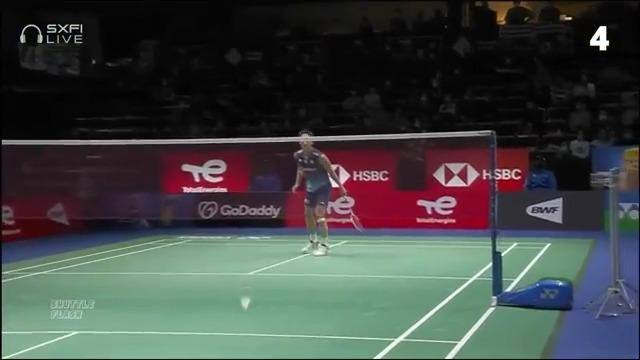Shuttlecock: (234, 294, 258, 316)
